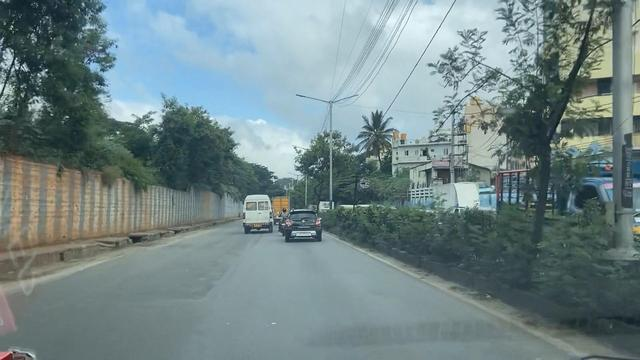HMV: (245, 195, 272, 235)
LMV: (286, 210, 321, 242), (277, 207, 290, 238)
